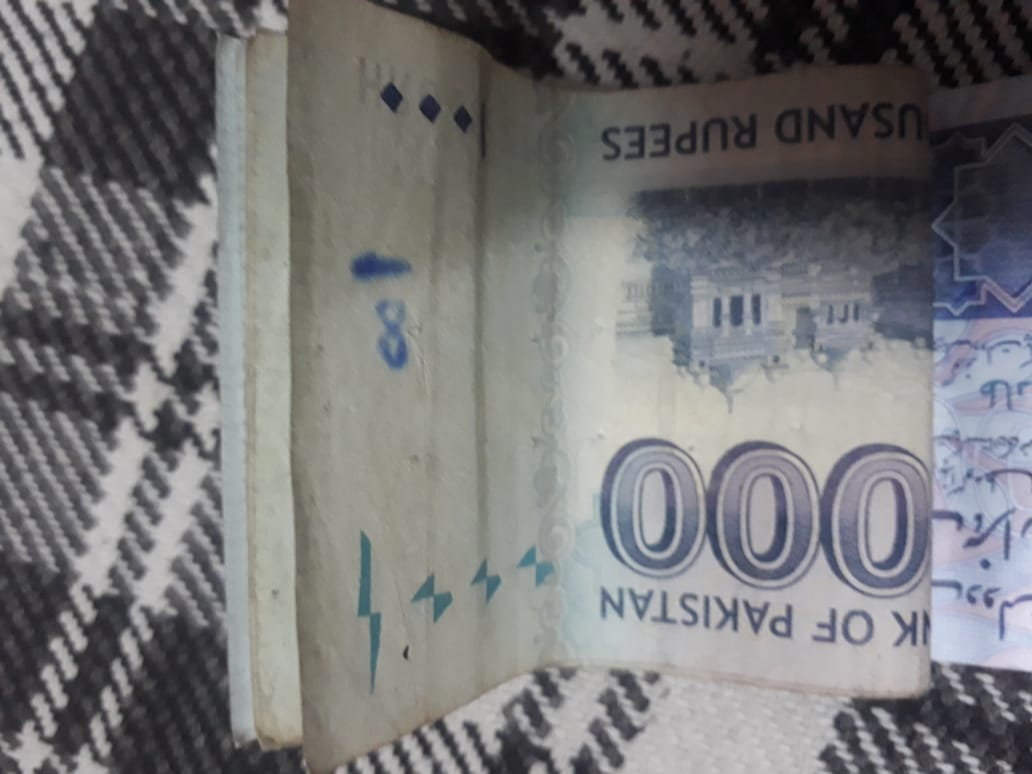1000 rupee: (210, 16, 966, 762)
